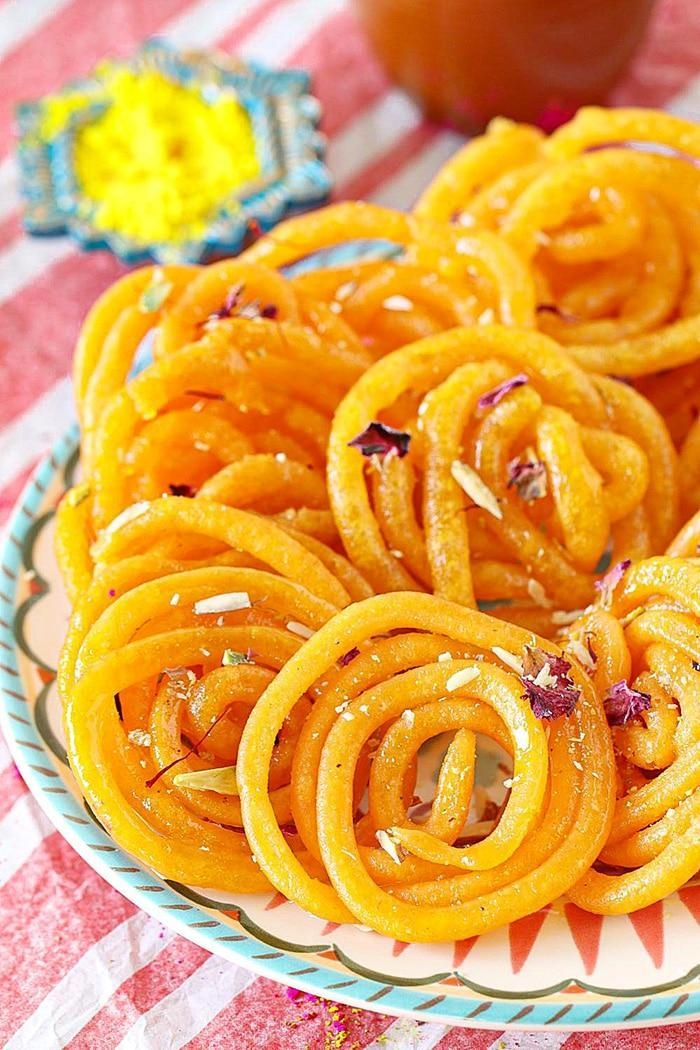jalebi: (87, 172, 700, 943)
